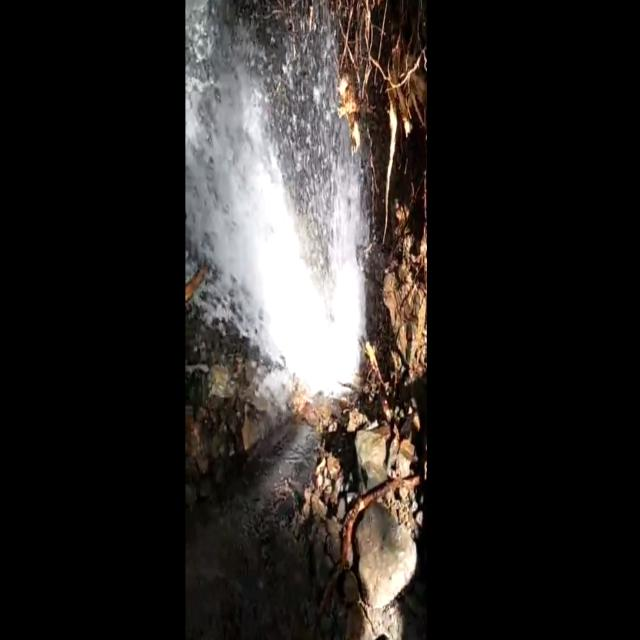leak: (186, 2, 368, 393)
